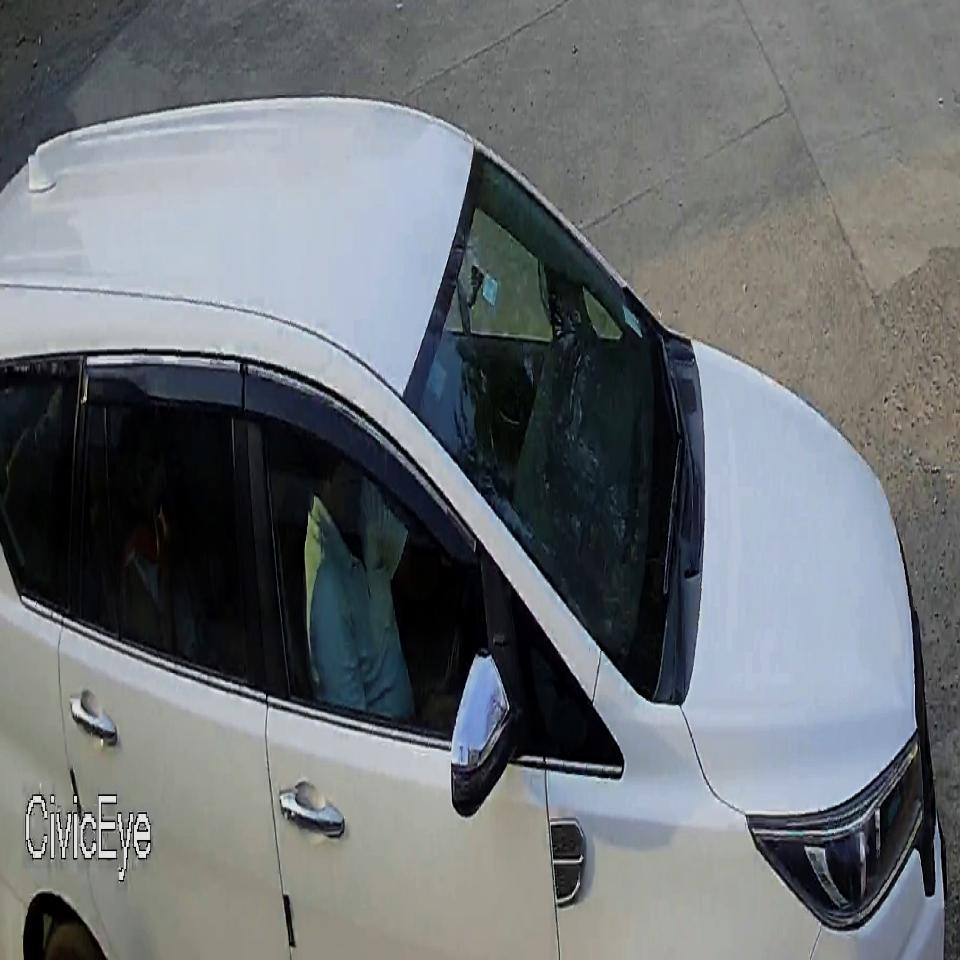head_light: (751, 739, 926, 931)
